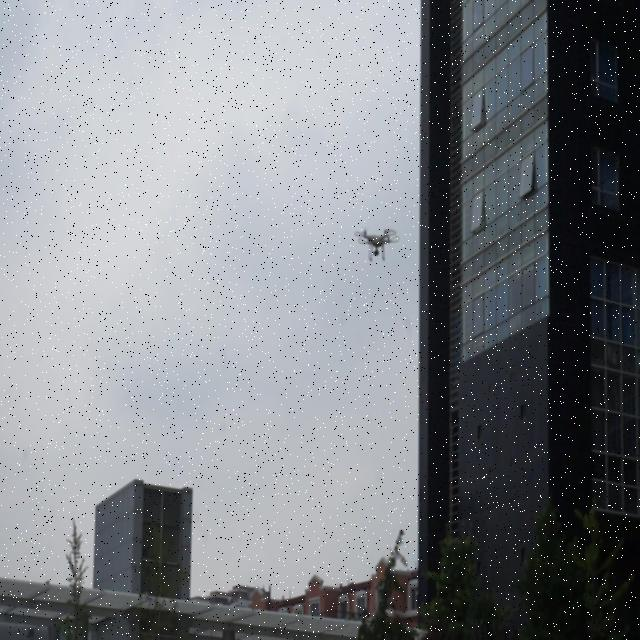UAV: (354, 229, 400, 261)
